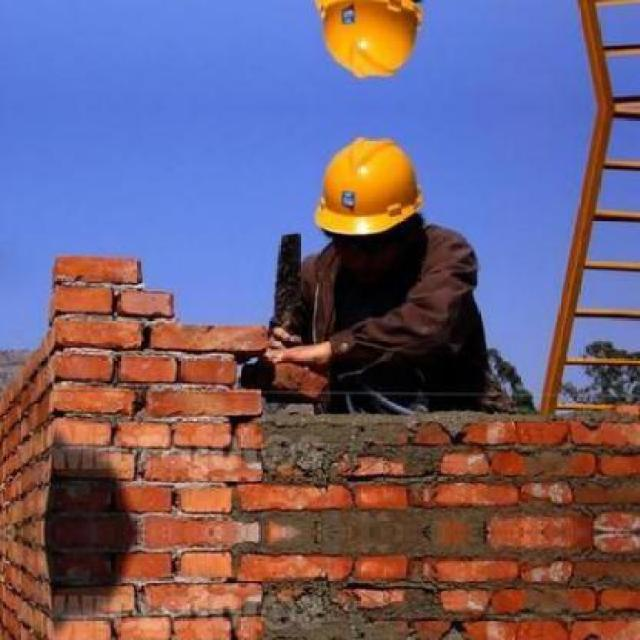helmet: (310, 127, 428, 267), (309, 0, 429, 86)
